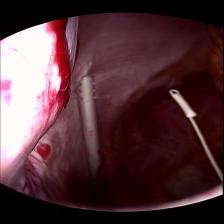Irrigator: (73, 73, 105, 110)
